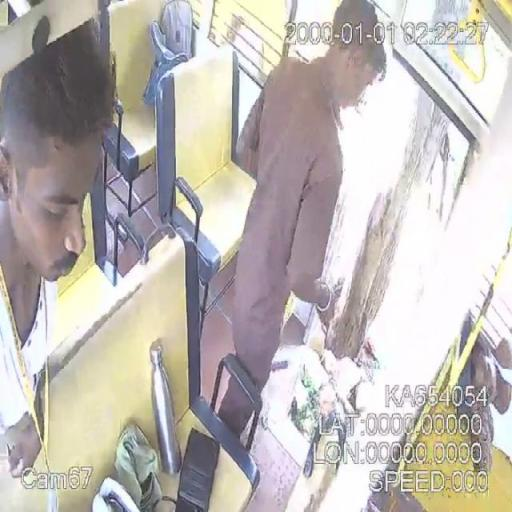persona: (229, 0, 388, 402), (0, 14, 119, 480)
